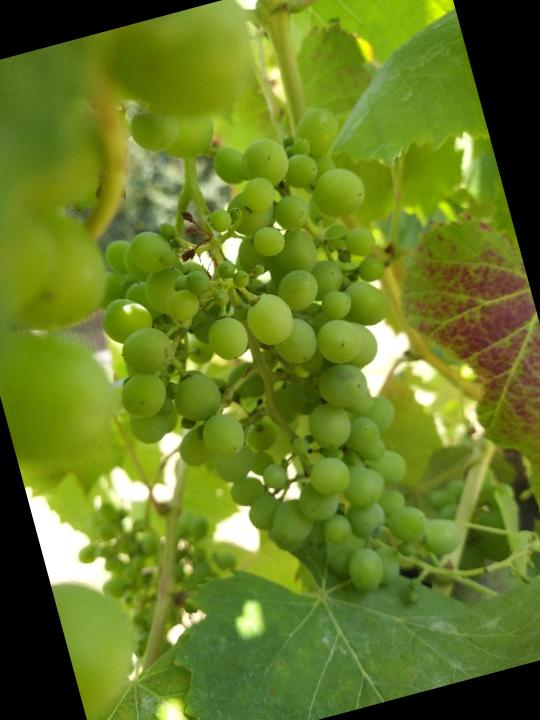grape: (50, 95, 477, 666)
